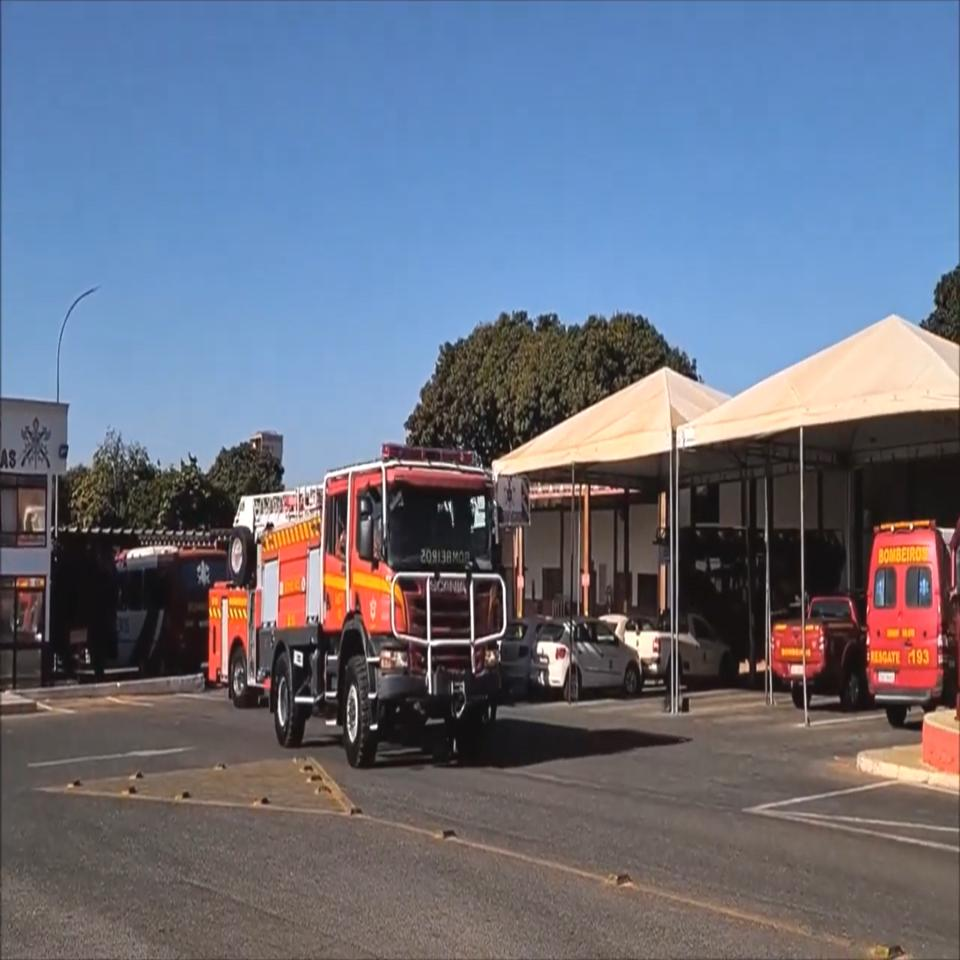bombeiro: (228, 443, 506, 770)
